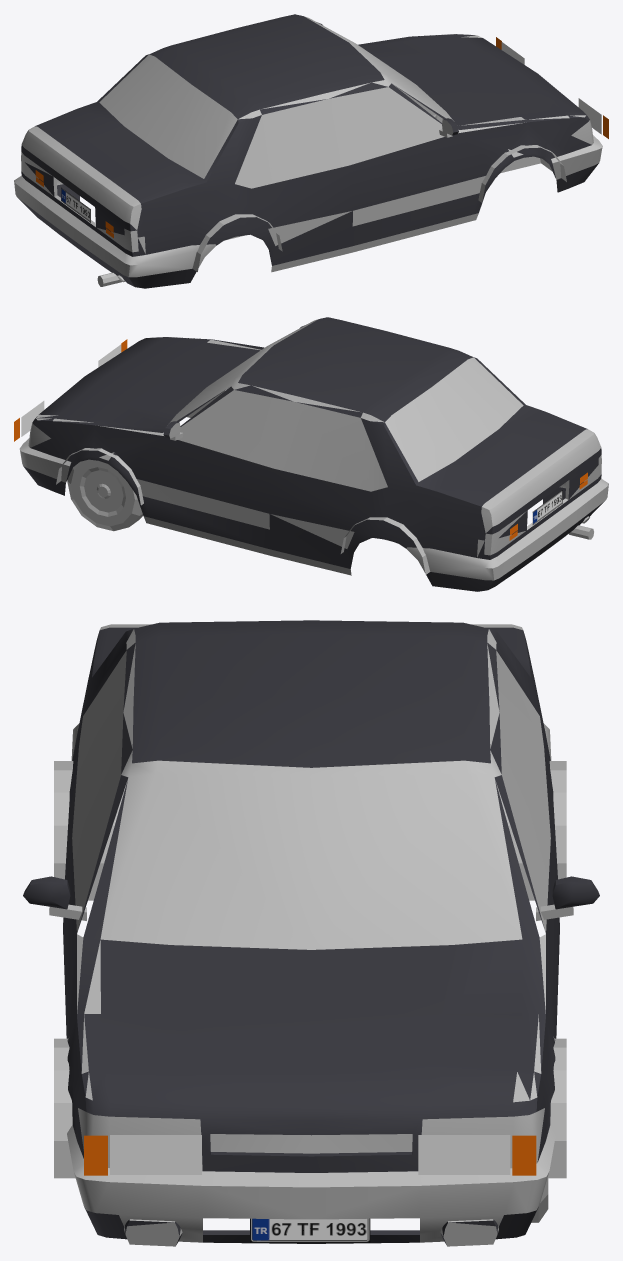
The model's file is dogan.glb.
3 renders of one model, top to bottom at view 1: azimuth 30°, elevation 25°; view 2: azimuth 150°, elevation 25°; view 3: azimuth 270°, elevation 25°, orthographic. The views are drawn at different scales.
Visible parts, largest first — view 1: bodyPainted, common, headlights, licensePlateRear; view 2: bodyPainted, common, wheel, headlights, licensePlateRear; view 3: bodyPainted, common, headlights, licensePlateFront, blinkerLeft, blinkerRight.
Part boxes in pixels (bbox=[...]): bodyPainted: bbox=[18, 14, 598, 288]; common: bbox=[14, 16, 602, 286]; headlights: bbox=[501, 42, 601, 134]; licensePlateRear: bbox=[61, 187, 90, 222]; bodyPainted: bbox=[23, 317, 604, 591]; common: bbox=[19, 319, 608, 580]; wheel: bbox=[67, 459, 143, 531]; headlights: bbox=[21, 344, 121, 436]; licensePlateRear: bbox=[532, 490, 562, 524]; bodyPainted: bbox=[23, 620, 599, 1244]; common: bbox=[49, 624, 573, 1246]; headlights: bbox=[110, 1135, 510, 1174]; licensePlateFront: bbox=[250, 1218, 370, 1242]; blinkerLeft: bbox=[512, 1135, 536, 1175]; blinkerRight: bbox=[84, 1135, 107, 1175].
Bounding box in the file's own units: 2.81 × 0.948 × 1.44.
5 materials, 1 textured.
